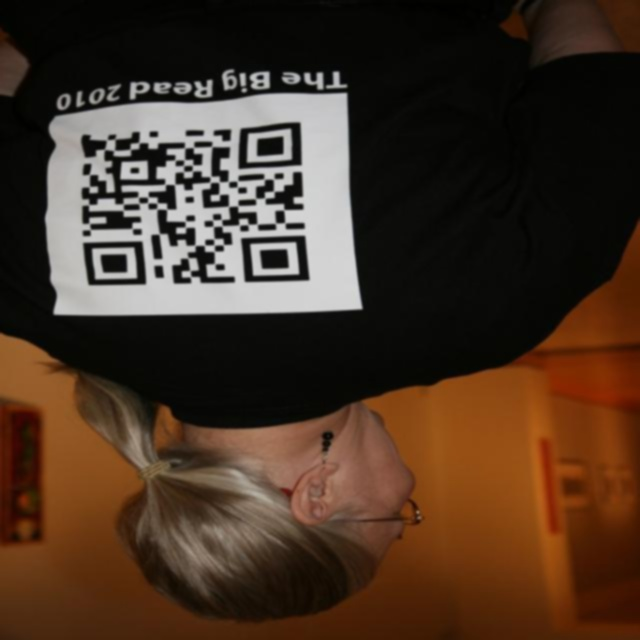qr-code: (82, 122, 310, 286)
